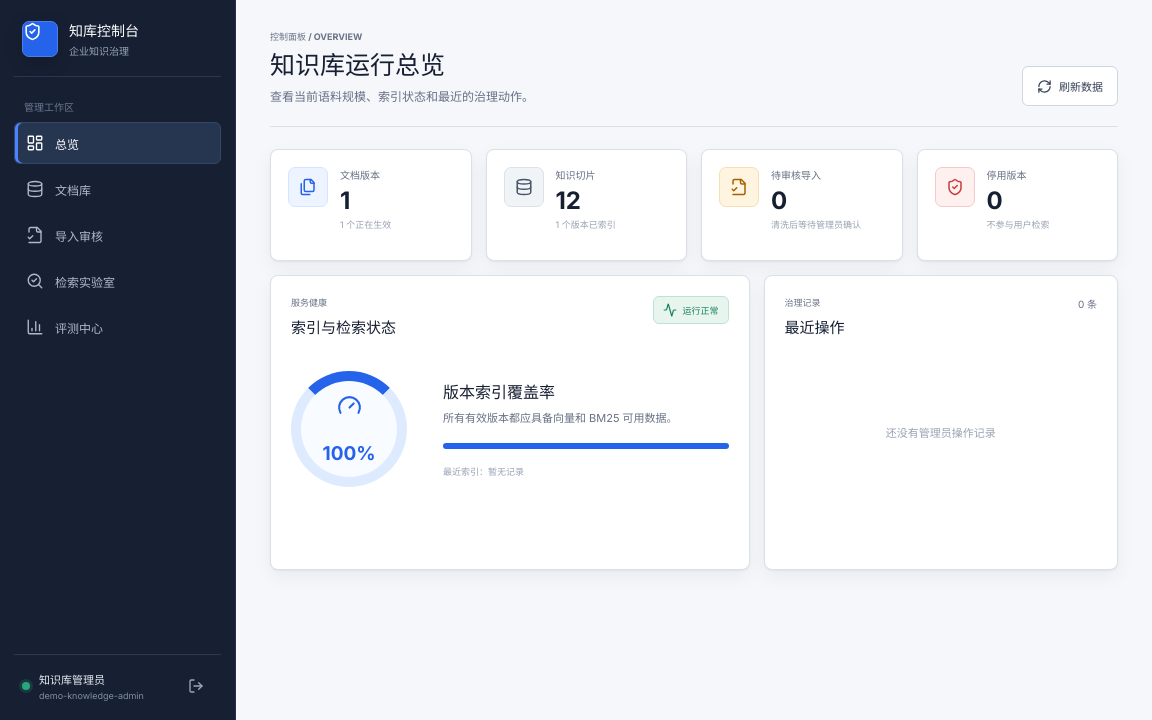
knowledge administrator console › requires exact title before permanent deletion
This screenshot has width=1152, height=720.
Click the button "文档库": (118, 189) 14,168 -> 221,210
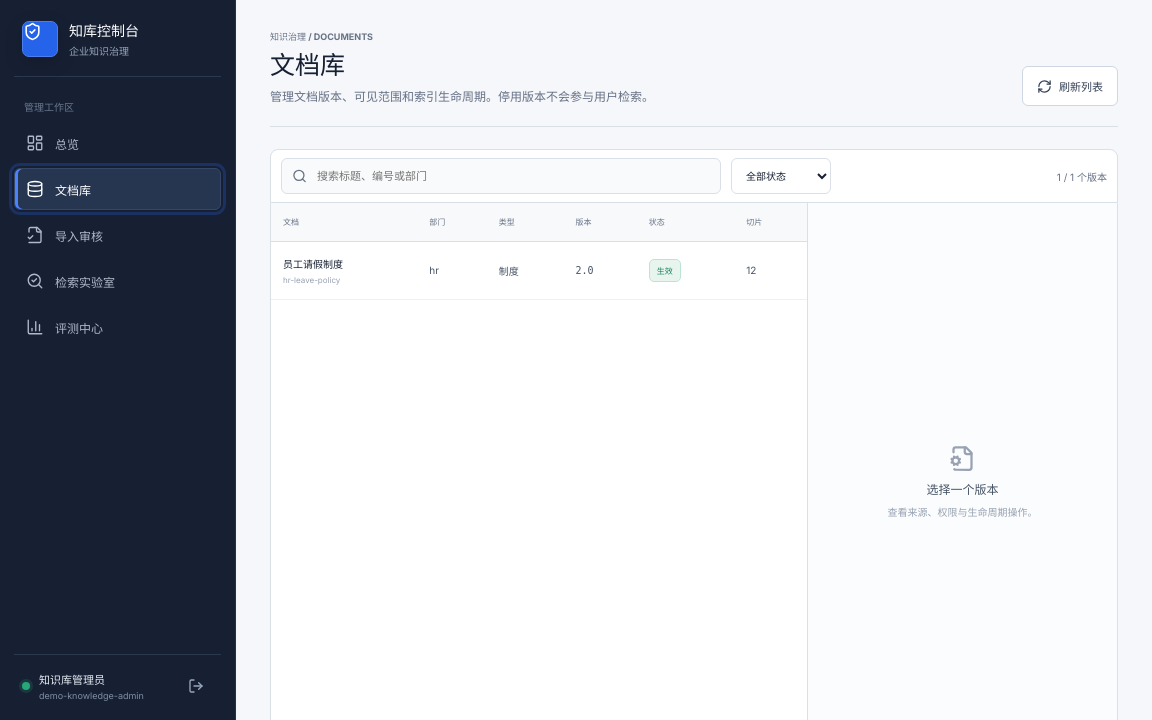
Click the text "员工请假制度": (313, 264) 283,258 -> 343,270
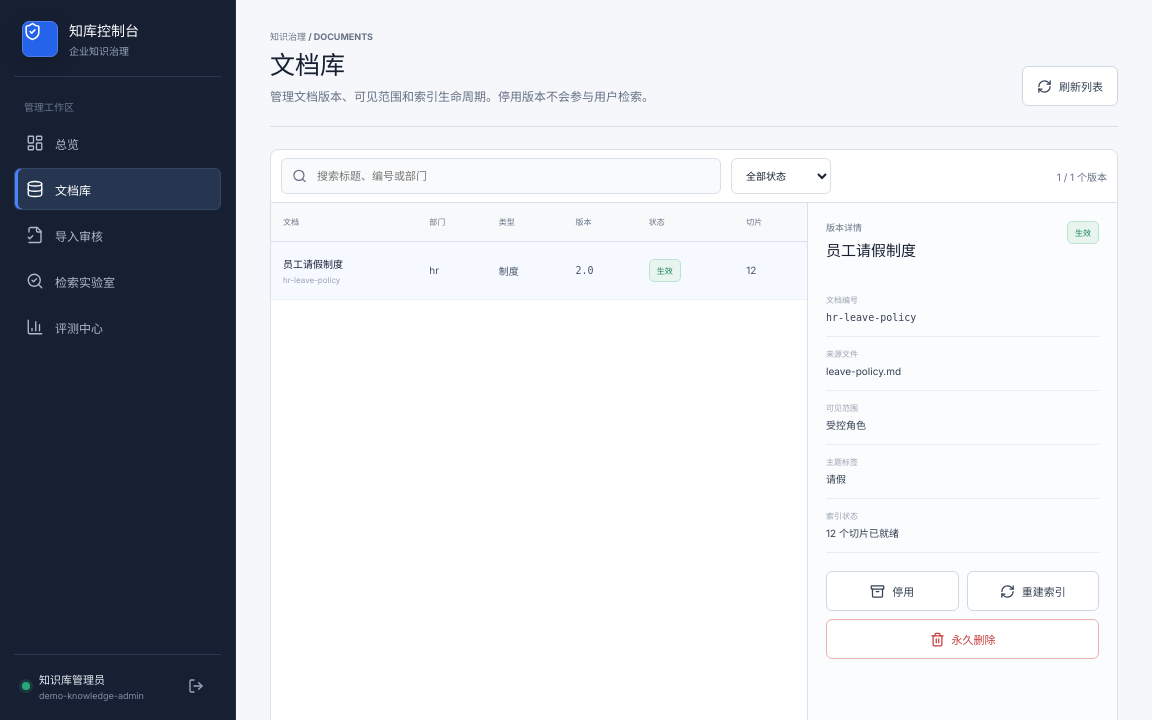
Click the button "永久删除": (962, 639) 826,619 -> 1099,659
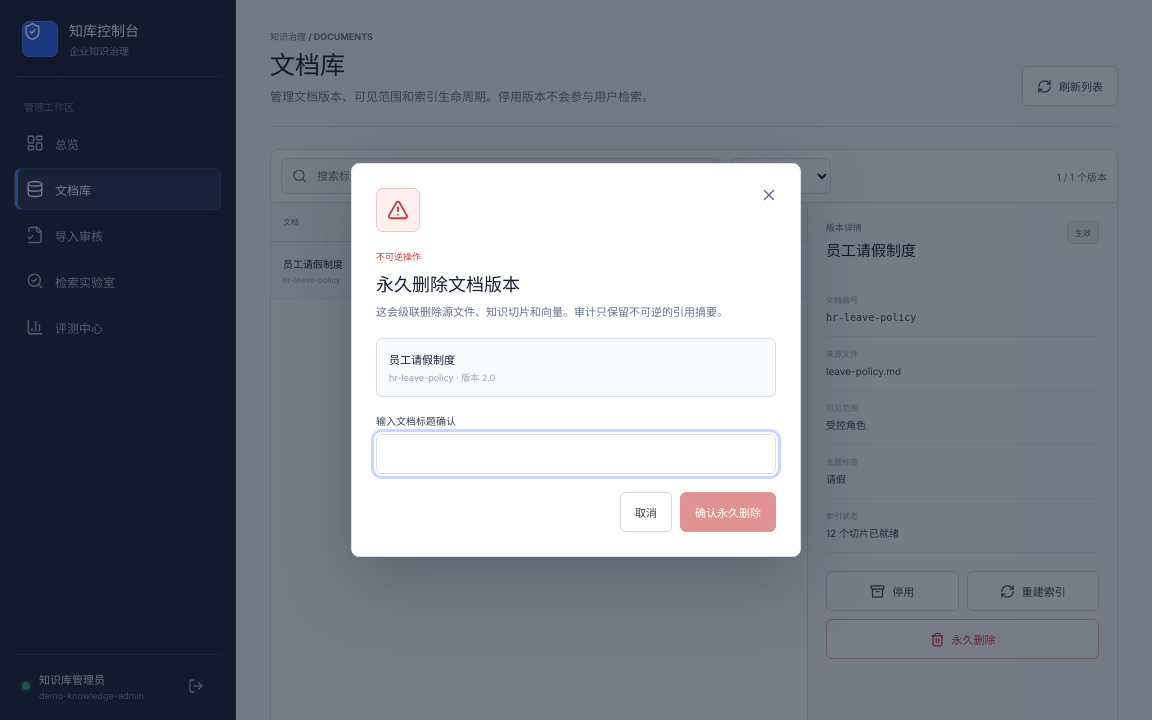
expect the button "确认永久删除" is disabled: met, box 680,492 -> 776,532
In the field labelled "输入文档标题确认": (576, 454) 376,434 -> 776,474, type "员工请假制度"
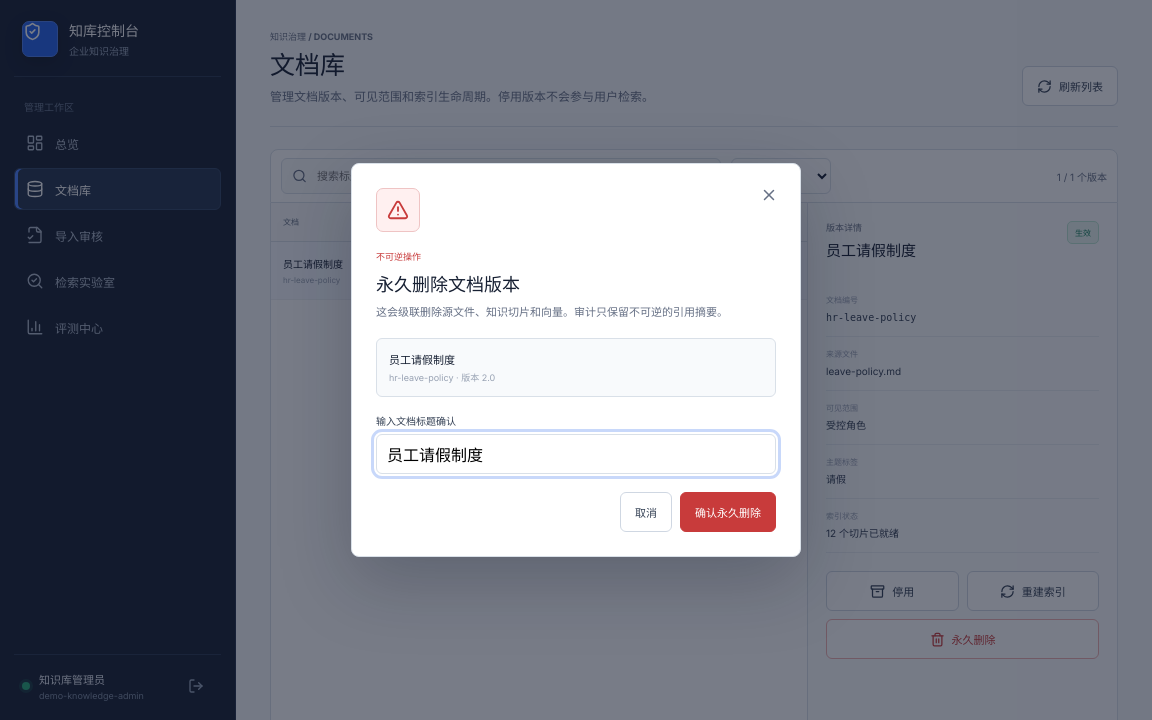
expect the button "确认永久删除" is enabled: met, box 680,492 -> 776,532
